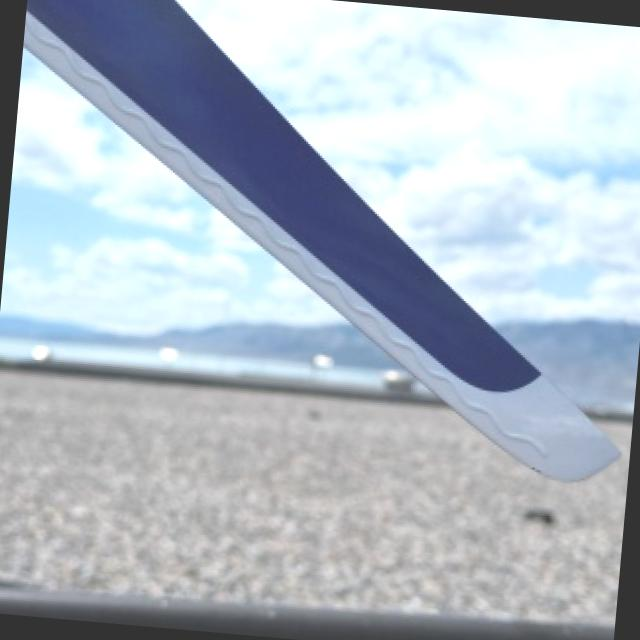healthy: (23, 0, 615, 476)
